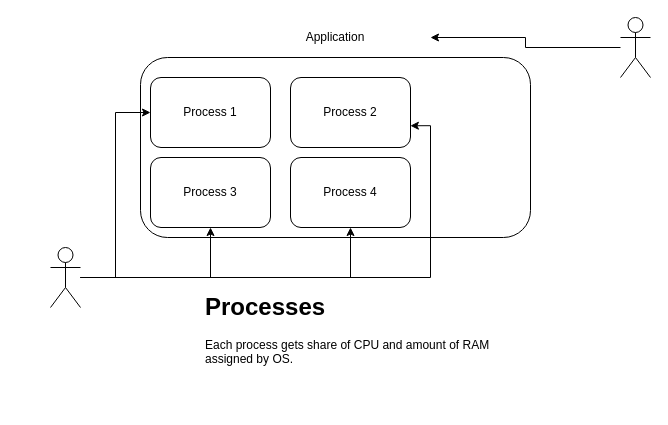
The diagram is 668 pixels wide and 425 high, and some of its shapes have lost their labels. Each missing label, with the centre of its shape:
"Operating System" goes at [65,277].
"User" goes at [635,47].
